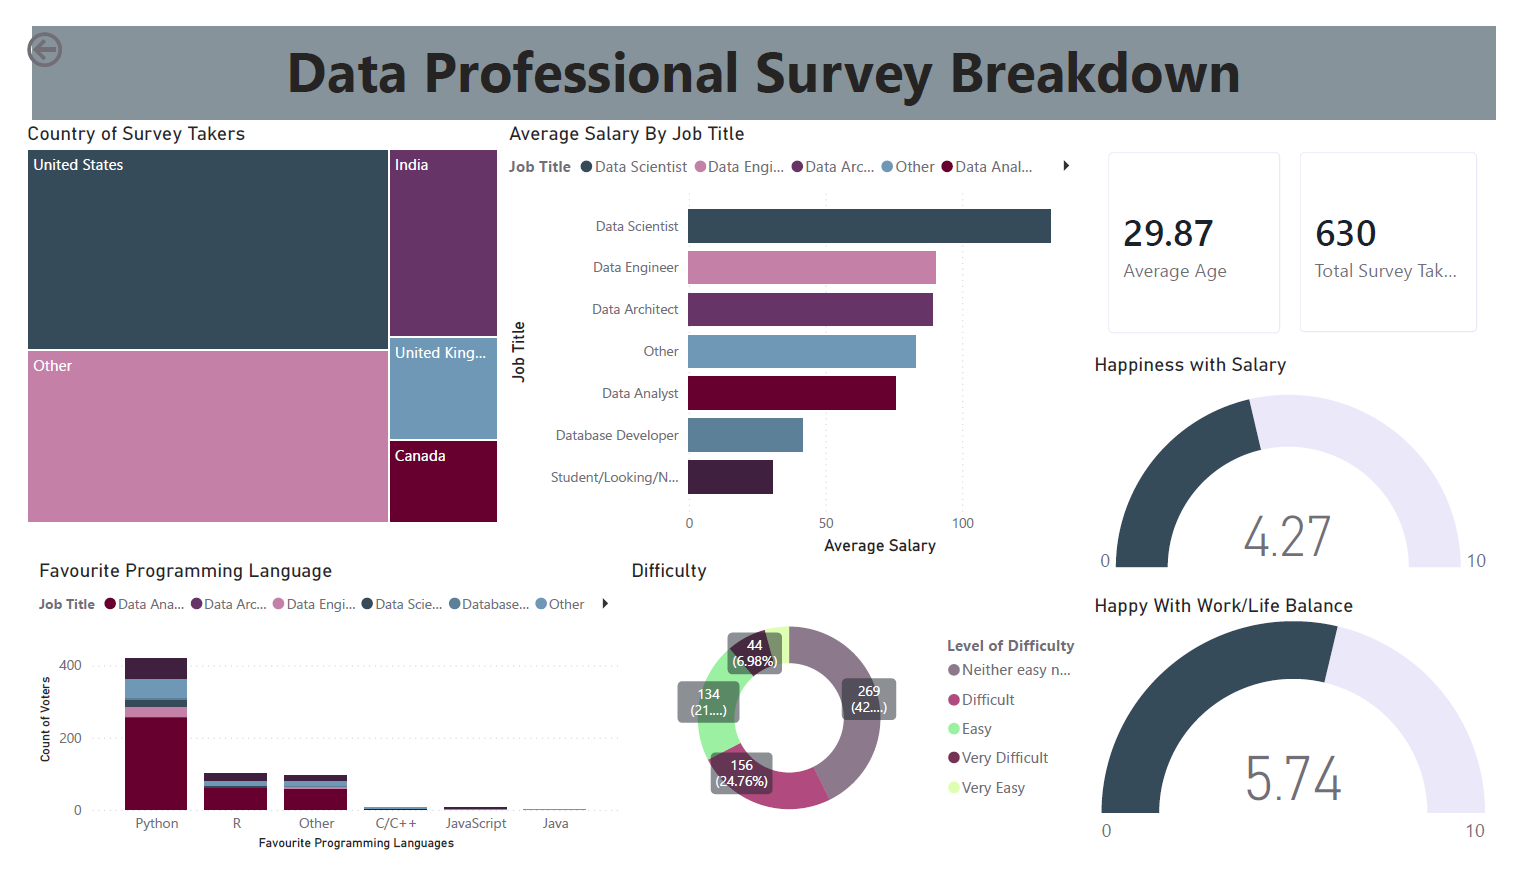

What the dashboard file says about the page in this screenshot:
{"tool":"powerbi","page":{"name":"Page 1","canvas":[1280,720],"ordinal":0},"visuals":[{"type":"textbox","box":[9.4,0,1269.9,81.3],"z":0},{"type":"textbox","box":[9.4,0,1269.9,81.3],"z":1000},{"type":"textbox","box":[9.4,0,1269.9,81.3],"z":2000},{"type":"cardVisual","fields":{"Data":["CountNonNull(Data Professional Survey.Unique ID)"]},"box":[1092,92,188,190],"z":3000},{"type":"actionButton","box":[0,0,100,40],"z":4000},{"type":"cardVisual","fields":{"Data":["Avg(Data Professional Survey.Q10 - Current Age)"]},"box":[926.2,91.6,183.2,191.2],"z":5000},{"type":"barChart","title":"Average Salary By Job Title","fields":{"Category":["Data Professional Survey.Q1 - Which Title Best Fits your Current Role?.1"],"Y":["Avg(Data Professional Survey.Average Salary)"],"Series":["Data Professional Survey.Q1 - Which Title Best Fits your Current Role?.1"]},"box":[418.3,81.7,507.9,380.4],"z":6000},{"type":"columnChart","title":"Favourite Programming Language","fields":{"Category":["Data Professional Survey.Q5 - Favorite Programming Language.1"],"Y":["CountNonNull(Data Professional Survey.Unique ID)"],"Series":["Data Professional Survey.Q1 - Which Title Best Fits your Current Role?.1"]},"box":[10,462.1,513.9,256.9],"z":7000},{"type":"treemap","title":"Country of Survey Takers","fields":{"Group":["Data Professional Survey.Q11 - Which Country do you live in?.1"],"Values":["CountNonNull(Data Professional Survey.Q11 - Which Country do you live in?.1)"]},"box":[0,81.7,418.3,354.5],"z":8000},{"type":"gauge","title":"Happy With Work/Life Balance","fields":{"Y":["Avg(Data Professional Survey.Q6 - How Happy are you in your Current Position with the following? (Work/Life Balance))"],"MinValue":["Min(Data Professional Survey.Q6 - How Happy are you in your Current Position with the following? (Work/Life Balance))1"],"MaxValue":["Max(Data Professional Survey.Q6 - How Happy are you in your Current Position with the following? (Work/Life Balance))2"]},"box":[926.2,492,354.5,227.1],"z":9000},{"type":"gauge","title":"Happiness with Salary","fields":{"Y":["Avg(Data Professional Survey.Q6 - How Happy are you in your Current Position with the following? (Salary))"],"MinValue":["Min(Data Professional Survey.Q6 - How Happy are you in your Current Position with the following? (Salary))1"],"MaxValue":["Max(Data Professional Survey.Q6 - How Happy are you in your Current Position with the following? (Salary))2"]},"box":[926.2,282.8,354.5,209.1],"z":10000},{"type":"donutChart","title":"Difficulty","fields":{"Category":["Data Professional Survey.Q7 - How difficult was it for you to break into Data?"],"Y":["CountNonNull(Data Professional Survey.Q7 - How difficult was it for you to break into Data?)"]},"box":[523.8,462.1,402.3,256.9],"z":11000}]}

Visuals, with their boxes in screenshot pixels (x1, y1, x2, y2), scaled from the page's 1280x720 canvas onto the 1519x874 screenshot:
textbox: 11,0,1518,99
textbox: 11,0,1518,99
textbox: 11,0,1518,99
cardVisual - CountNonNull(Data Professional Survey.Unique ID): 1296,112,1518,342
actionButton: 0,0,119,49
cardVisual - Avg(Data Professional Survey.Q10 - Current Age): 1099,111,1317,343
"Average Salary By Job Title" barChart: 496,99,1099,561
"Favourite Programming Language" columnChart: 12,561,622,873
"Country of Survey Takers" treemap: 0,99,496,529
"Happy With Work/Life Balance" gauge: 1099,597,1518,873
"Happiness with Salary" gauge: 1099,343,1518,597
"Difficulty" donutChart: 622,561,1099,873
